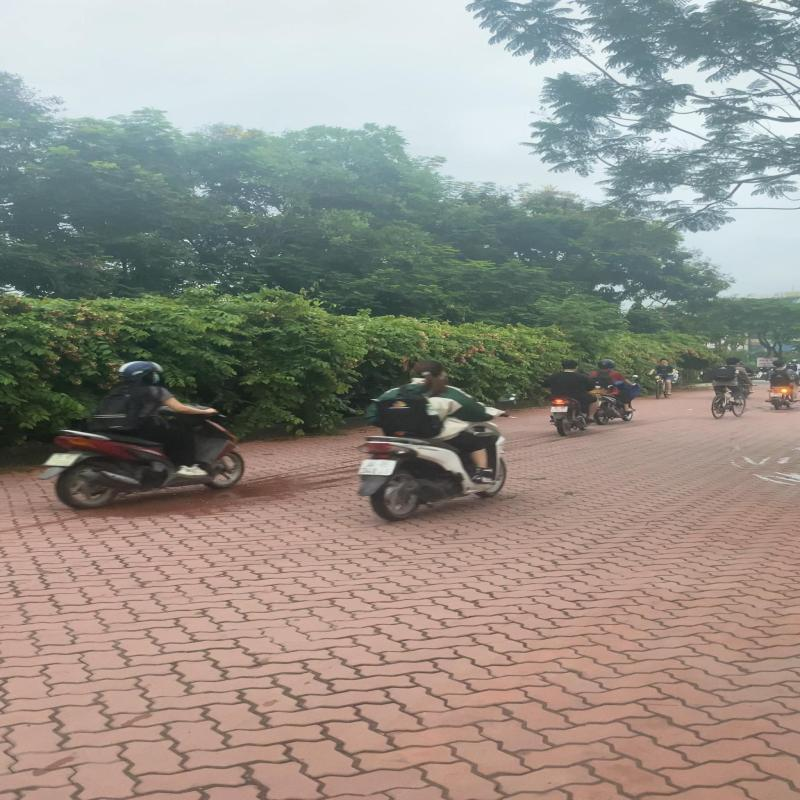licenseplate: (358, 459, 396, 476), (550, 406, 568, 412)
motorcyclist: (351, 358, 518, 522), (540, 360, 600, 436)
nohelmet: (408, 359, 445, 378), (562, 360, 580, 371)
